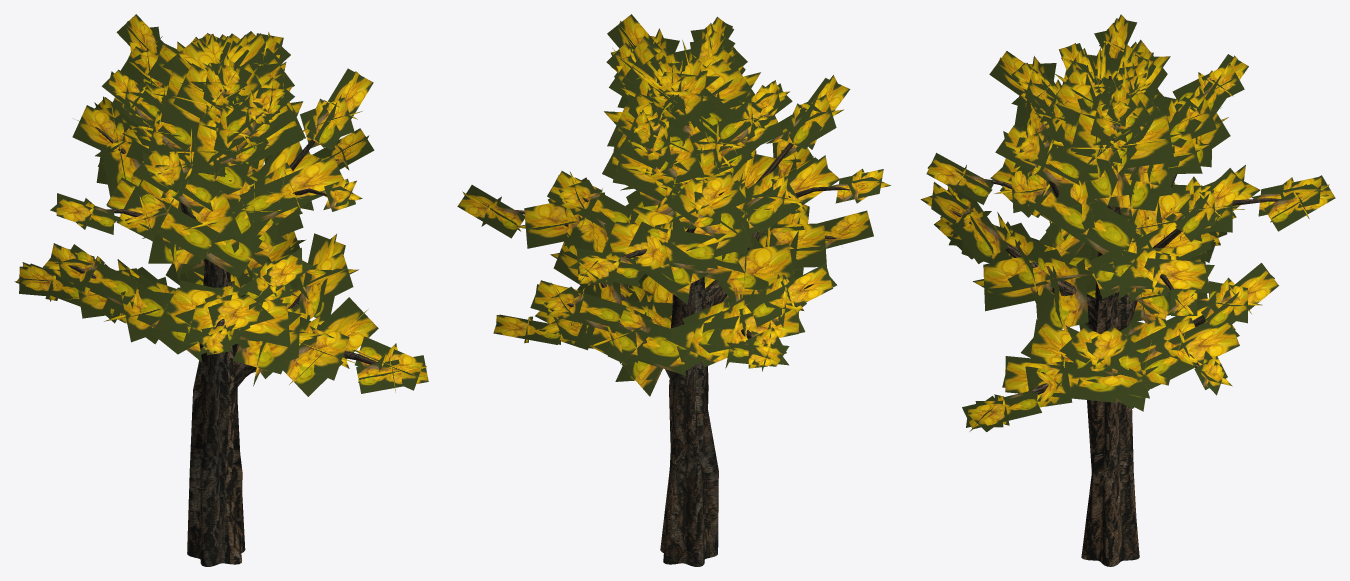
The model's file is arvore_folha_verde_variante_1.fbx.
The picture shows the model from 3 angles, left to right: view 1: azimuth 30°, elevation 25°; view 2: azimuth 150°, elevation 25°; view 3: azimuth 270°, elevation 25°; orthographic projection.
Parts seen in each view (by area): view 1: branch07_1, clay-banks-4u629vfd3vi-unsplash_0; view 2: branch07_1, clay-banks-4u629vfd3vi-unsplash_0; view 3: branch07_1, clay-banks-4u629vfd3vi-unsplash_0.
Boxes of the visible parts, left/top/right/bottom form: branch07_1: left=14, top=14, right=428, bottom=396; clay-banks-4u629vfd3vi-unsplash_0: left=68, top=126, right=377, bottom=566; branch07_1: left=457, top=14, right=890, bottom=396; clay-banks-4u629vfd3vi-unsplash_0: left=515, top=39, right=850, bottom=566; branch07_1: left=920, top=14, right=1335, bottom=431; clay-banks-4u629vfd3vi-unsplash_0: left=950, top=76, right=1280, bottom=566.
Bounding box in the file's own units: 560 × 741 × 550.
